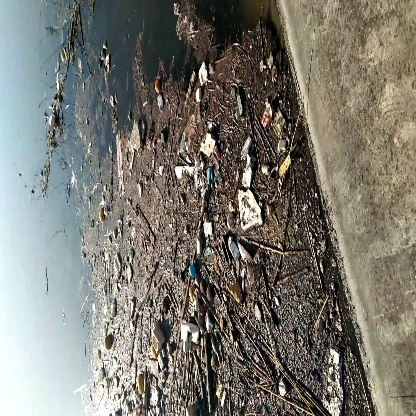branch: (255, 341, 313, 416)
